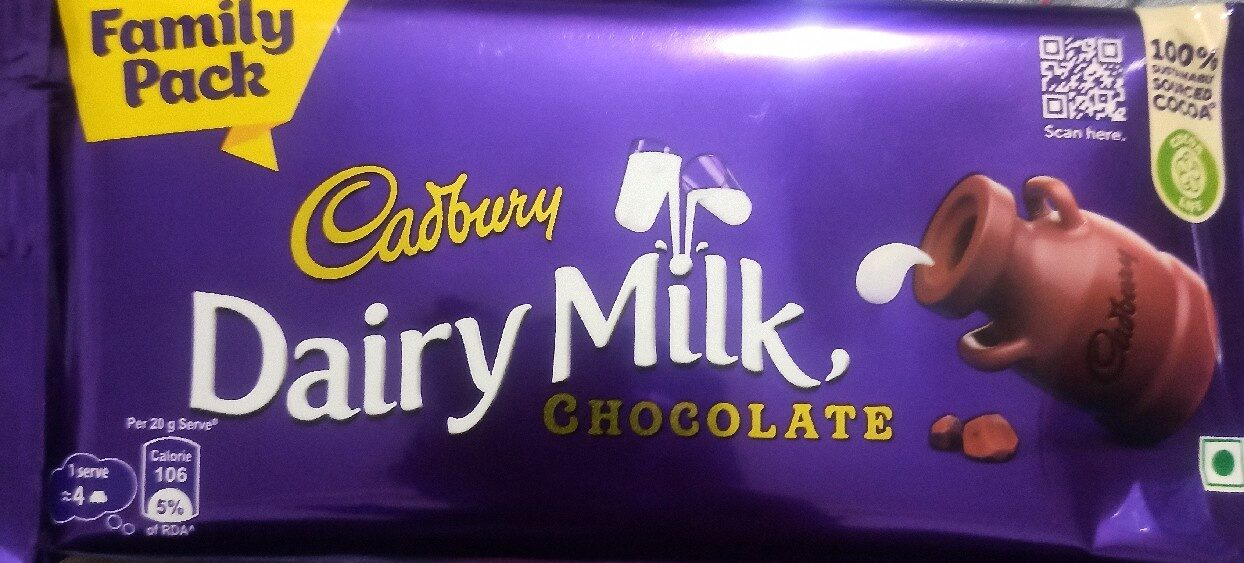Dairy Milk: (112, 51, 1132, 512)
